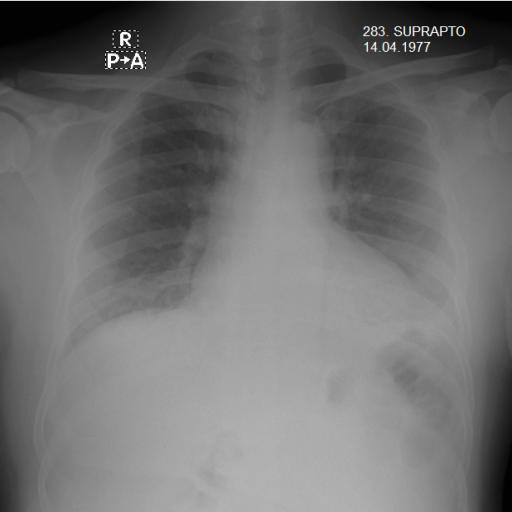kardiomegali: (50, 32, 469, 404)
